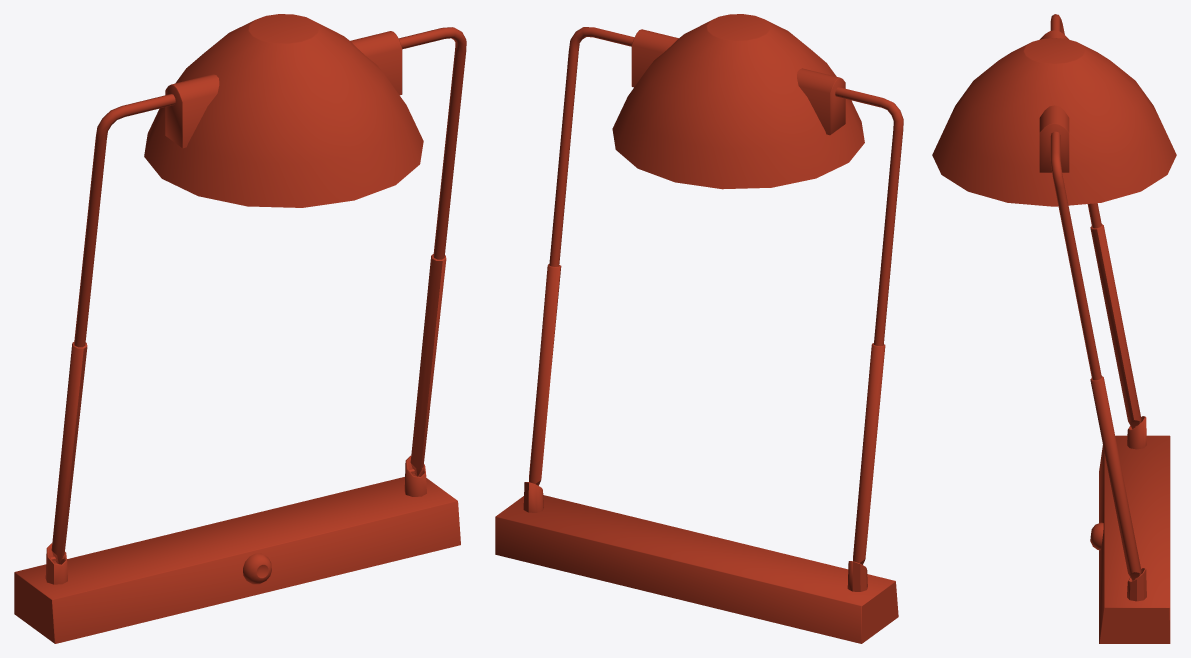
File: InredaBookcasePictureLighting.FBX
3 renders of one model, left to right at view 1: azimuth 30°, elevation 25°; view 2: azimuth 150°, elevation 25°; view 3: azimuth 270°, elevation 25°, orthographic. The views are drawn at different scales.
Parts seen in each view (by area): view 1: InredaBookcasePictureLighting; view 2: InredaBookcasePictureLighting; view 3: InredaBookcasePictureLighting.
Part boxes in pixels (bbox=[...]): InredaBookcasePictureLighting: bbox=[14, 14, 466, 643]; InredaBookcasePictureLighting: bbox=[495, 14, 903, 643]; InredaBookcasePictureLighting: bbox=[932, 14, 1176, 643].
Size of the model in its own units: 380 by 523 by 229.
